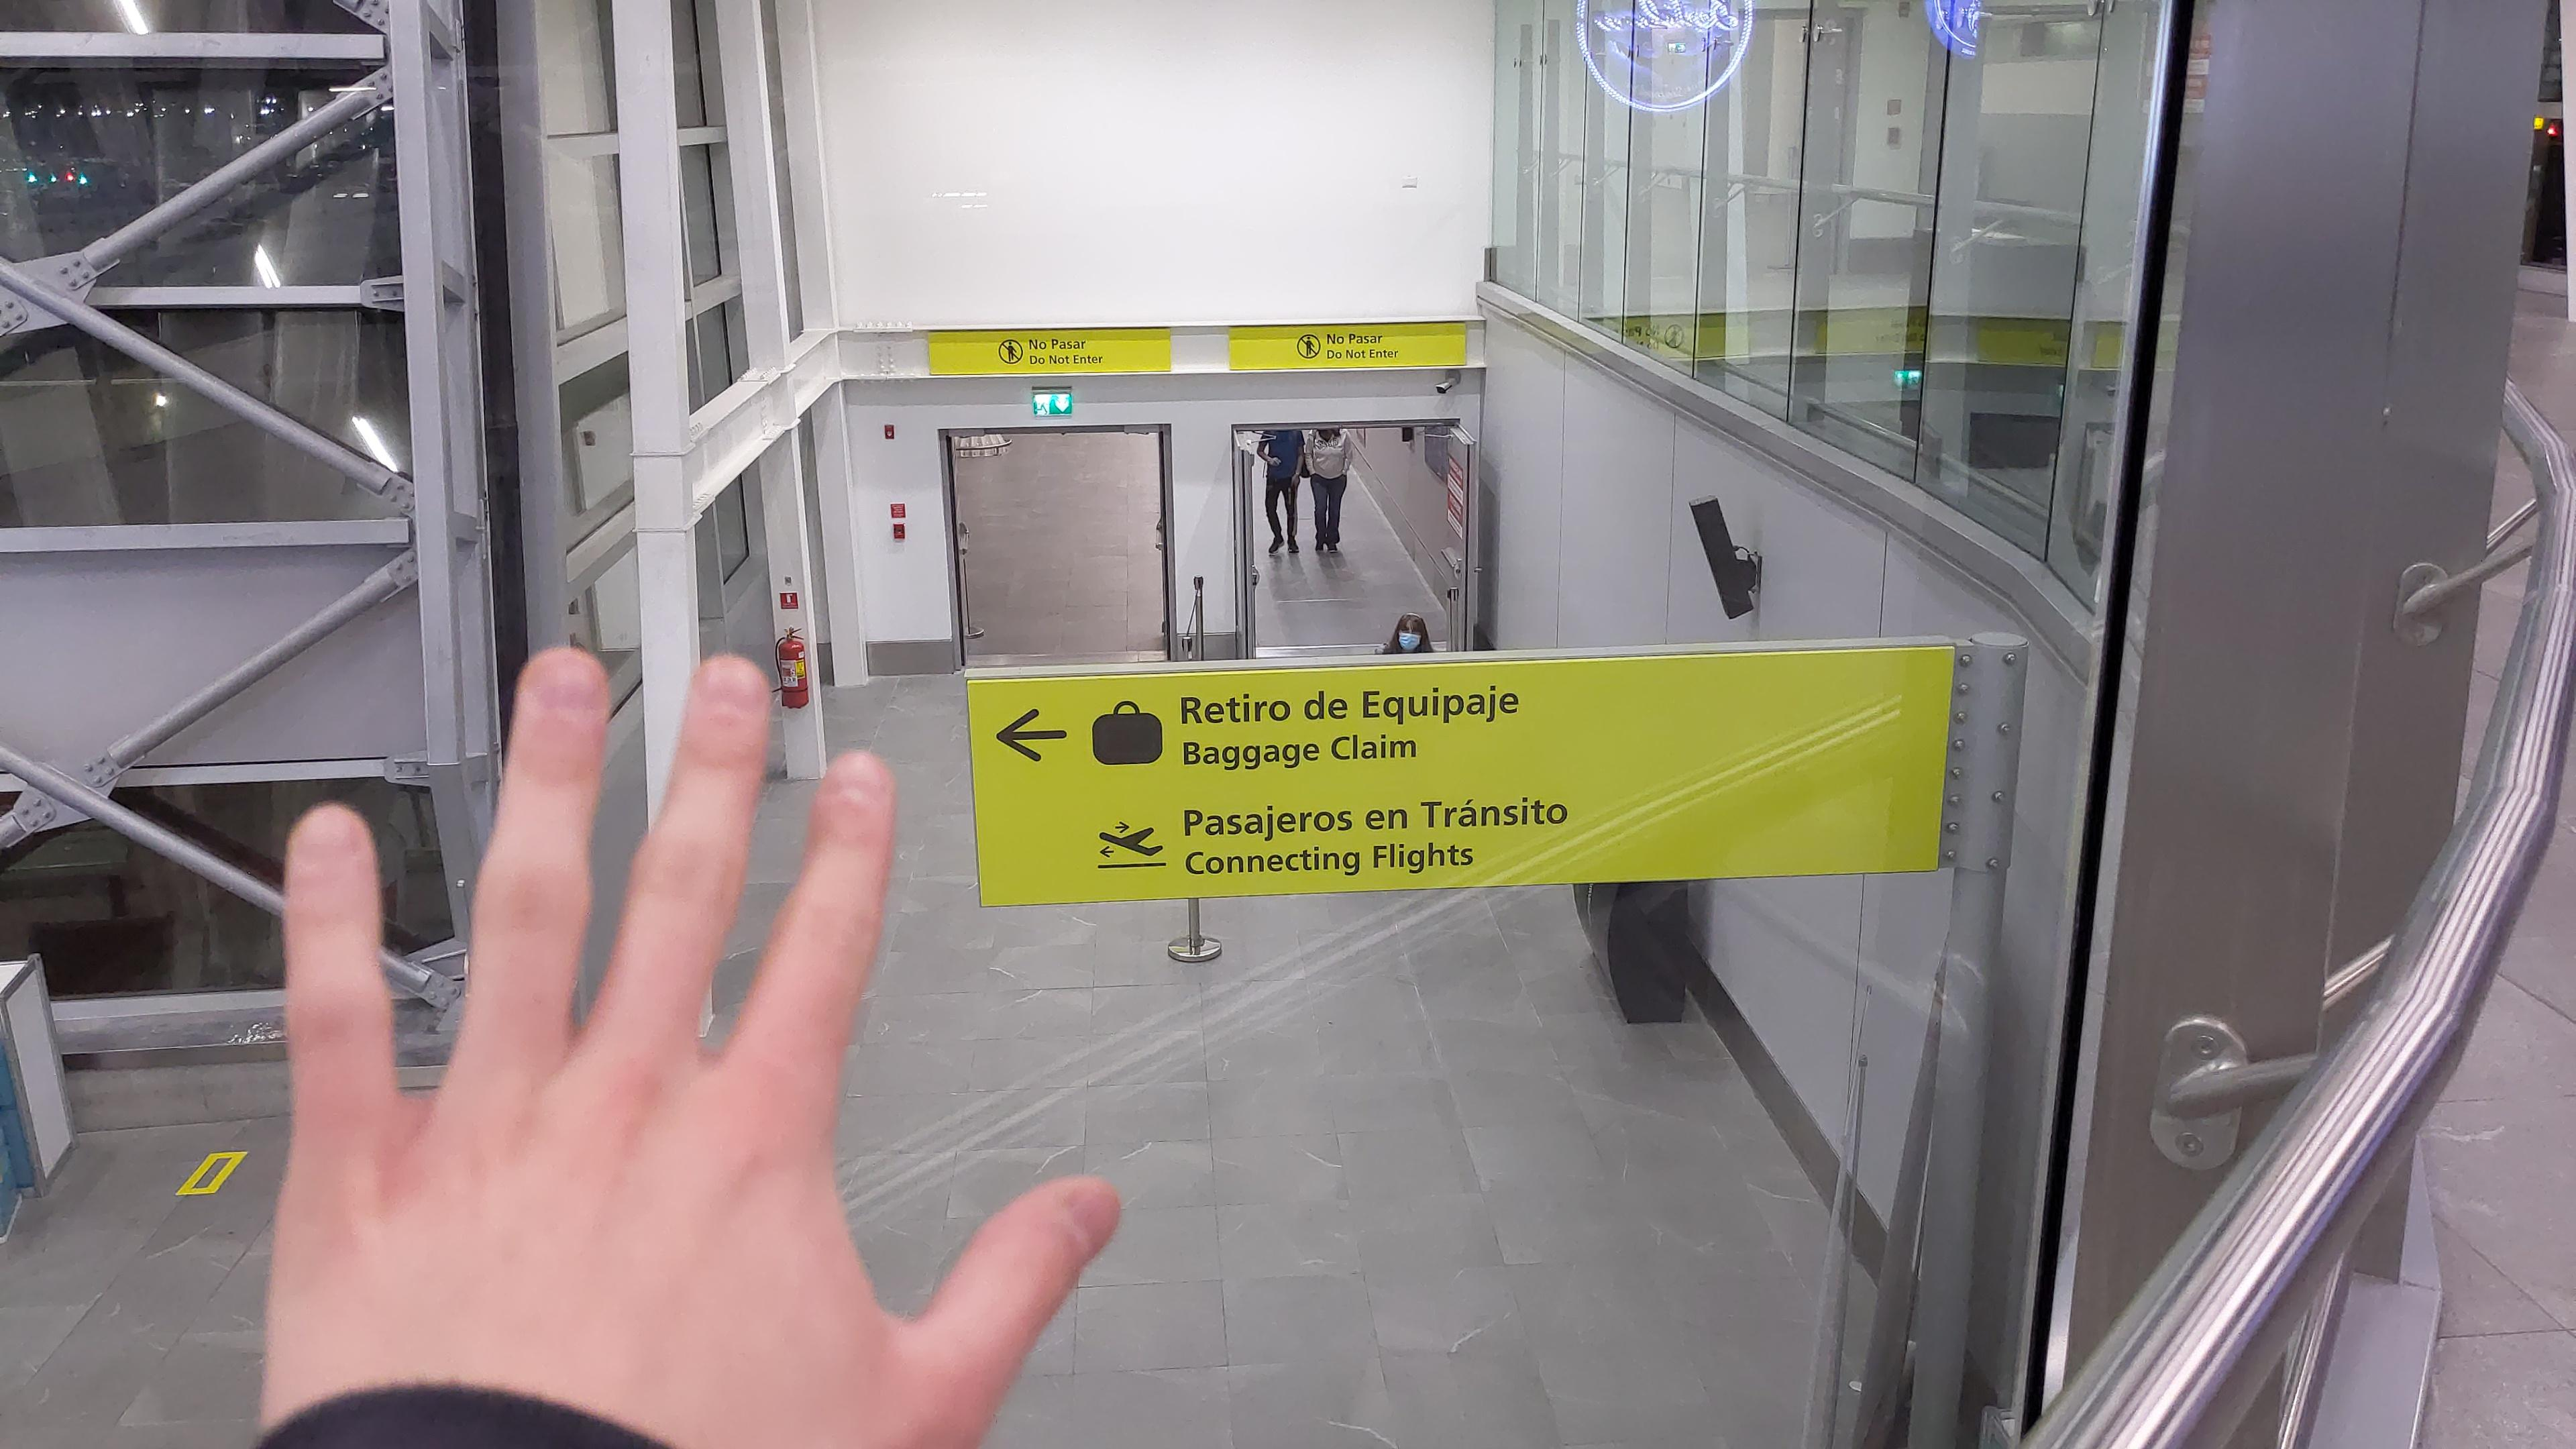airplane symbol: (1095, 819, 1166, 860)
baggage claim: (1090, 699, 1166, 771)
emergency down arrow: (1053, 393, 1070, 414)
emergency exit: (1035, 393, 1051, 418)
fire-extinguisher: (773, 625, 812, 709)
thin left arrow: (994, 706, 1069, 768)
